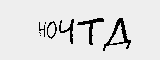Д: (102, 16, 132, 51)
Н: (36, 19, 46, 41)
О: (46, 18, 58, 40)
Т: (76, 15, 105, 46)
Ч: (56, 16, 76, 44)
